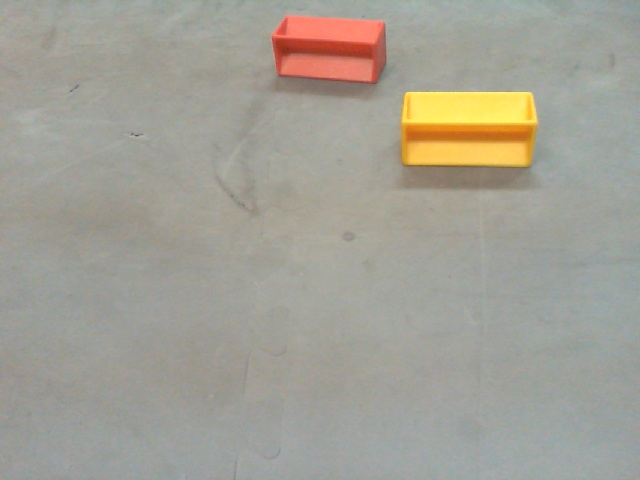RedSample: (269, 13, 392, 86)
YellowSample: (398, 87, 539, 175)
